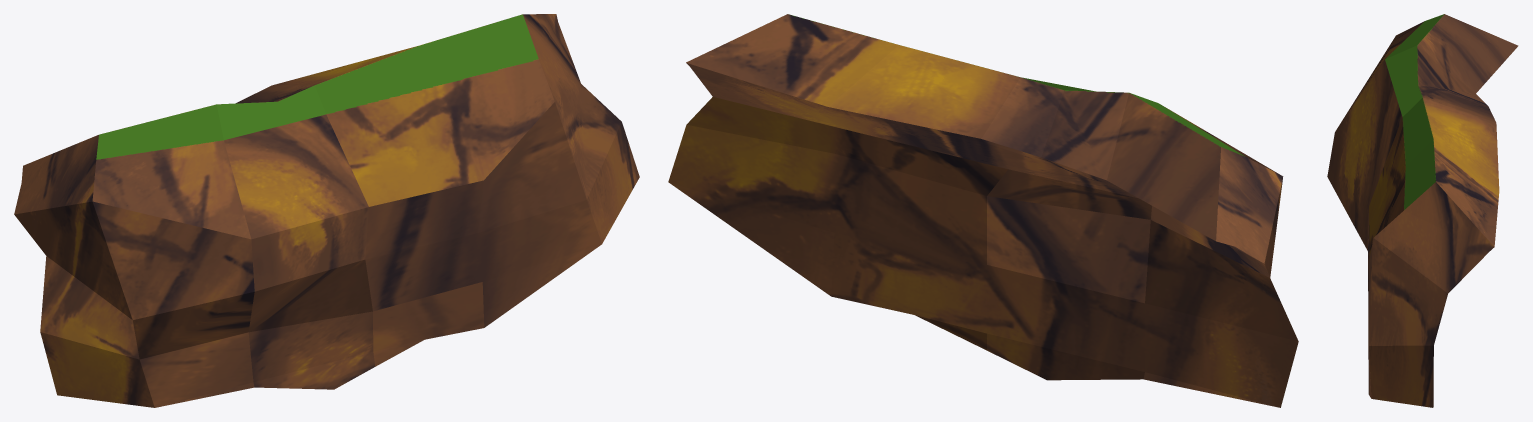
Rendered from sali24.obj.
3 views of the same model, side by side, from view 1: azimuth 30°, elevation 25°; view 2: azimuth 150°, elevation 25°; view 3: azimuth 270°, elevation 25° (orthographic). The views are drawn at different scales.
Parts seen in each view (by area): view 1: Cube.002_Cube; view 2: Cube.002_Cube; view 3: Cube.002_Cube.
Part boxes in pixels (x1,y1,x2,y2): Cube.002_Cube: [14, 14, 639, 407]; Cube.002_Cube: [668, 14, 1298, 407]; Cube.002_Cube: [1327, 14, 1518, 407].
Size of the model in its own units: 225 by 105 by 67.66.
Materials: 1 (1 with a texture image).
